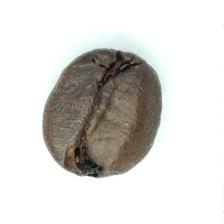NG: (56, 140, 120, 178)
